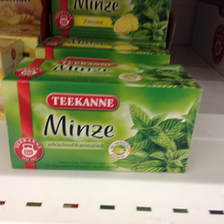tea: (1, 56, 201, 174)
